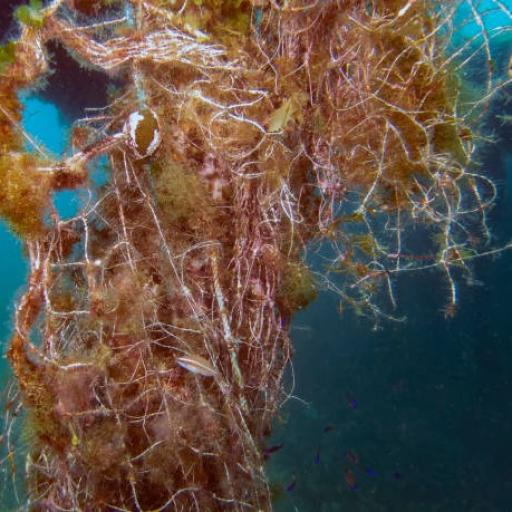net: (3, 1, 512, 512)
